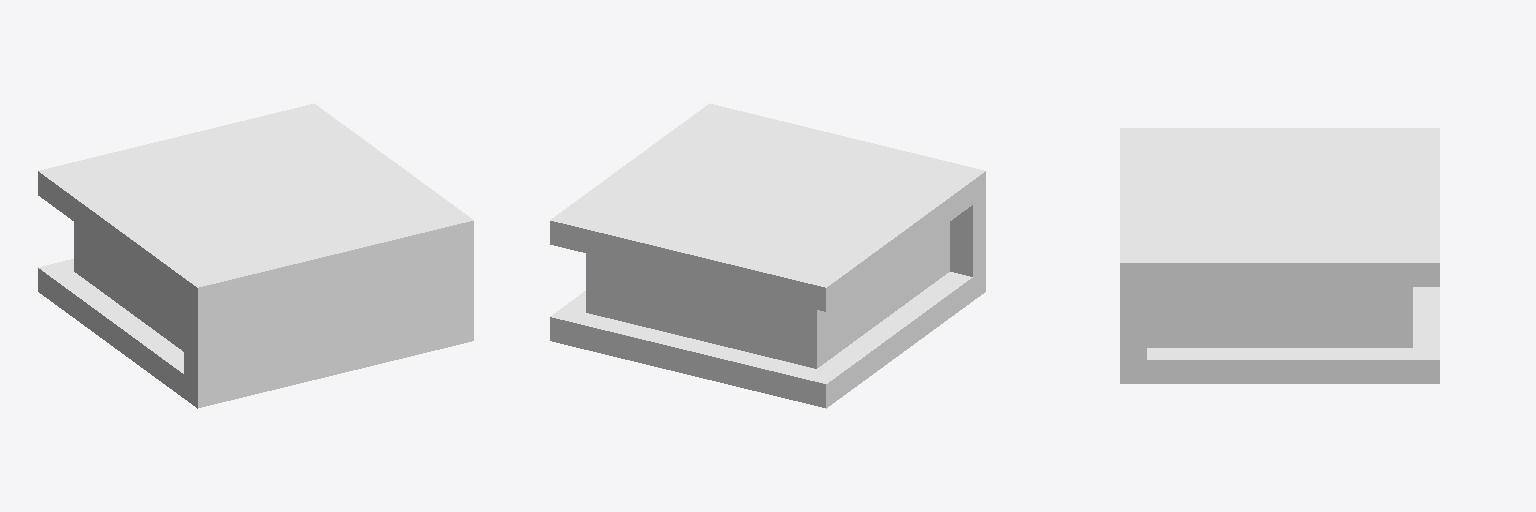
The model's file is itemmanual.obj.
The picture shows the model from 3 angles: view 1: azimuth 30°, elevation 25°; view 2: azimuth 150°, elevation 25°; view 3: azimuth 270°, elevation 25°; orthographic projection.
Bounding box in the file's own units: 12 × 5 × 12.